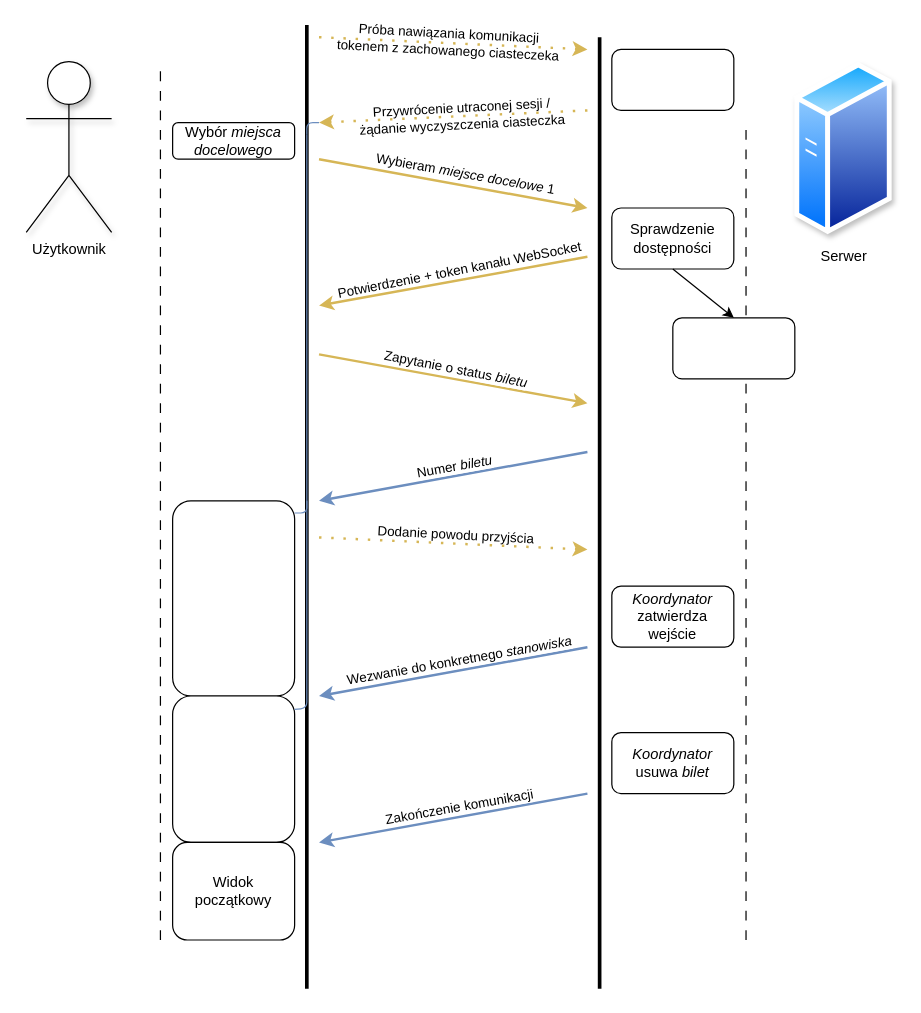
Some shapes in this 921 by 1013 pixel diagram are drawn without their labels. The centre of each missing label's shape, as x and y in pixels:
Informacja do koordynatora i ekranu: pixel 733 348
Sprawdzenie poprawności sesji użytkownika: pixel 672 79
Widok oczekiwania z numerem biletu: pixel 233 598
Widok wezwania z numerem stanowiska: pixel 233 768
